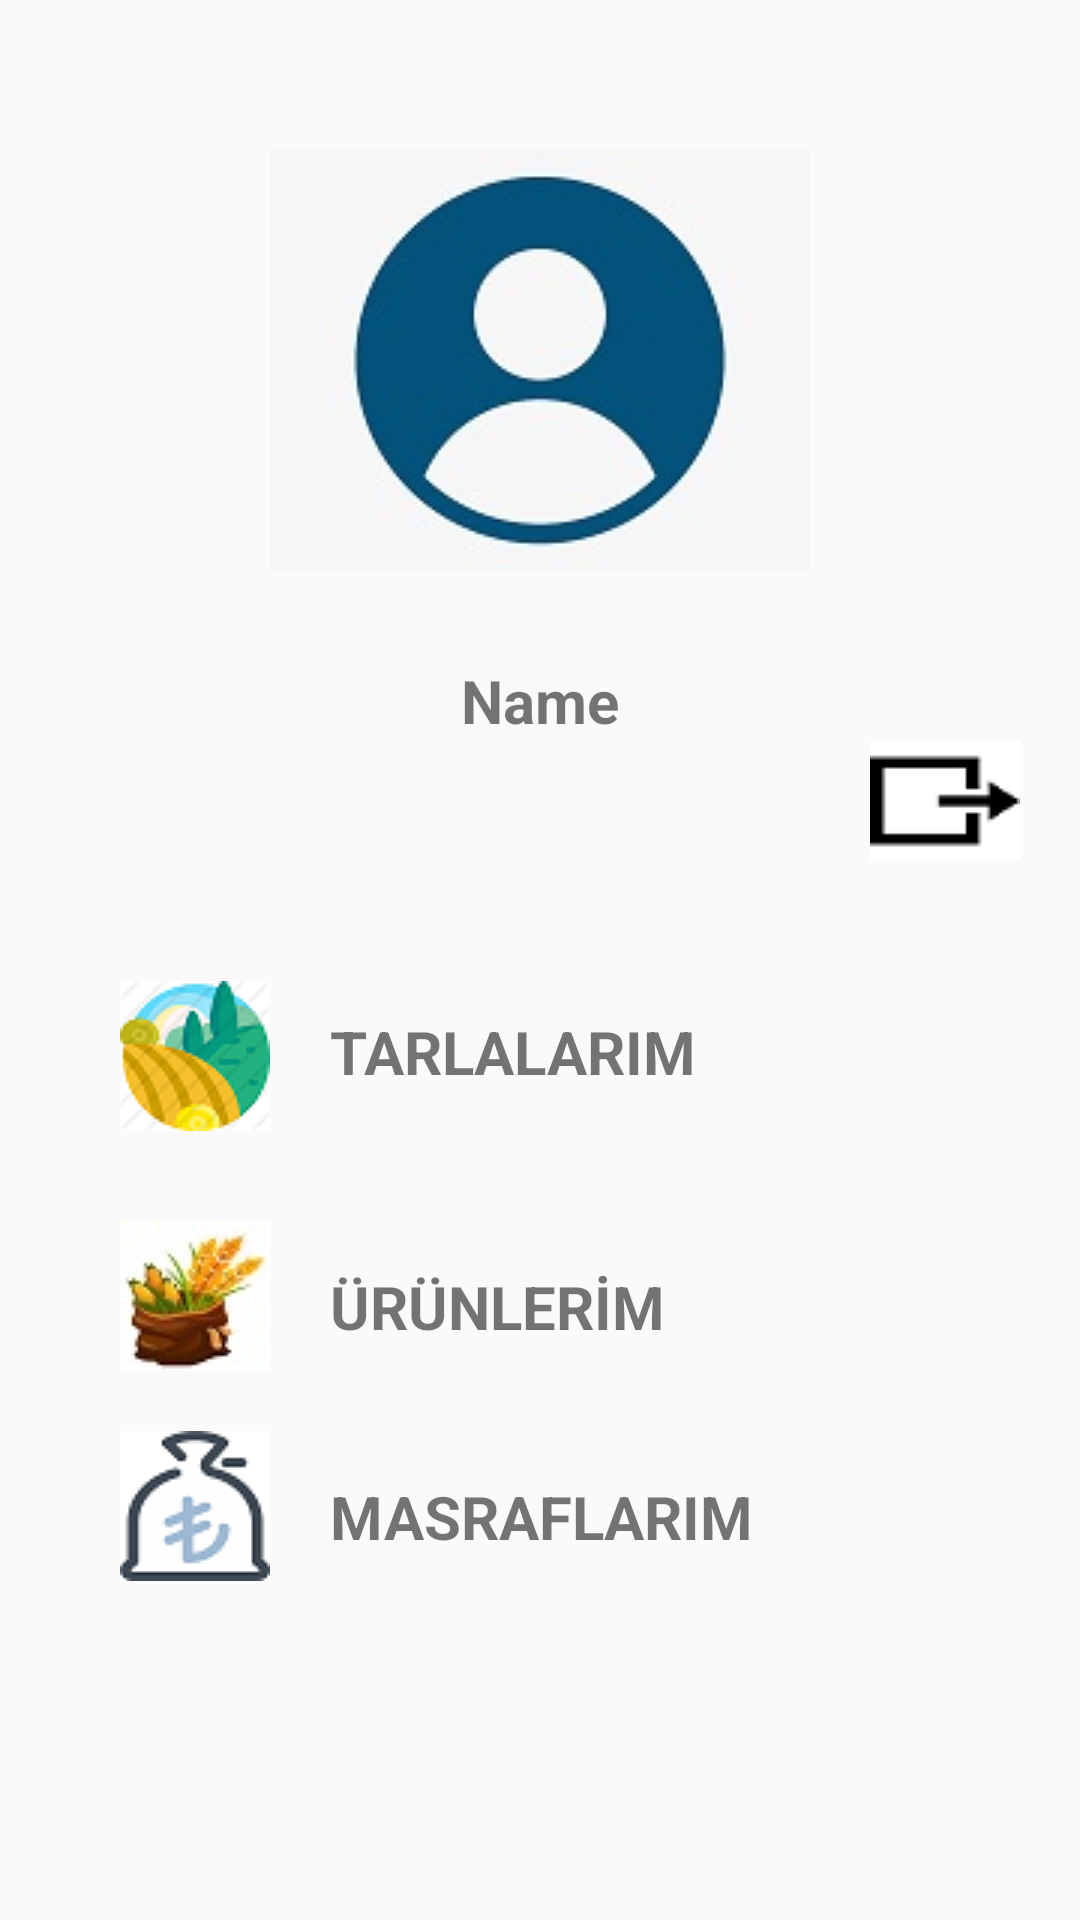

Named icons in this screenshot (1080px×1920px) and their centers, (x,y):
costicons: (195,1506)
mygardenicons: (195,1056)
productsicon: (195,1301)
